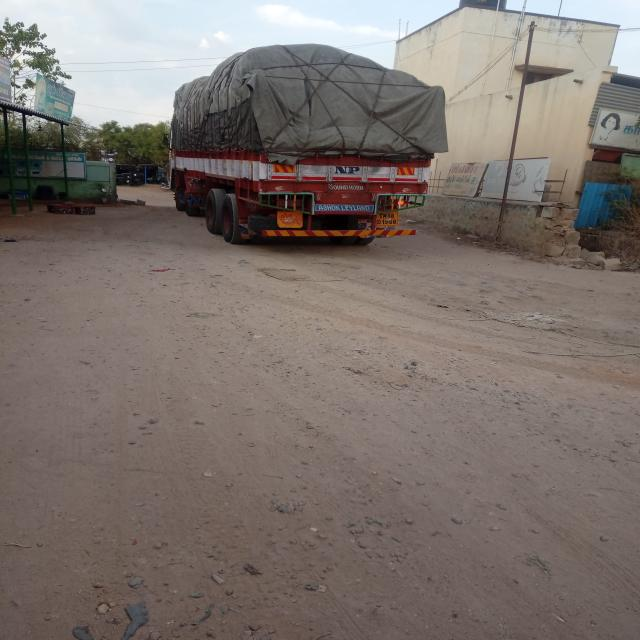Truck: (157, 26, 456, 247)
